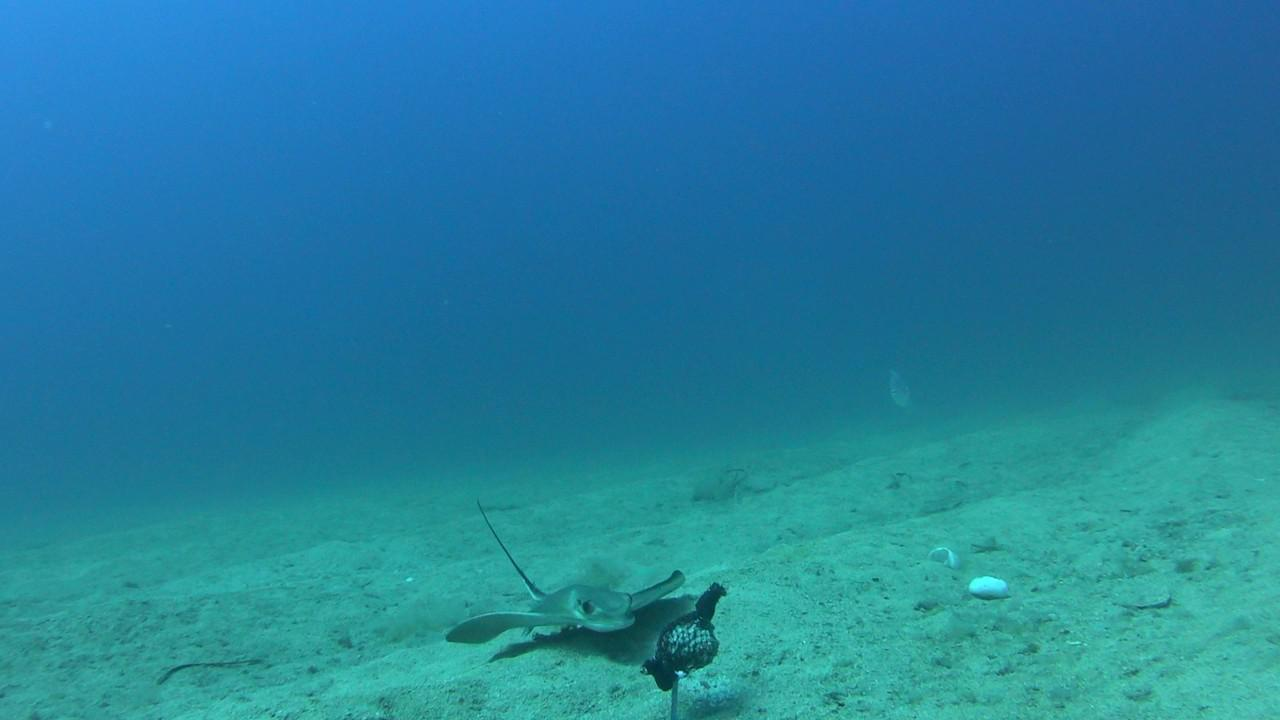myliobatis: (436, 488, 689, 652)
